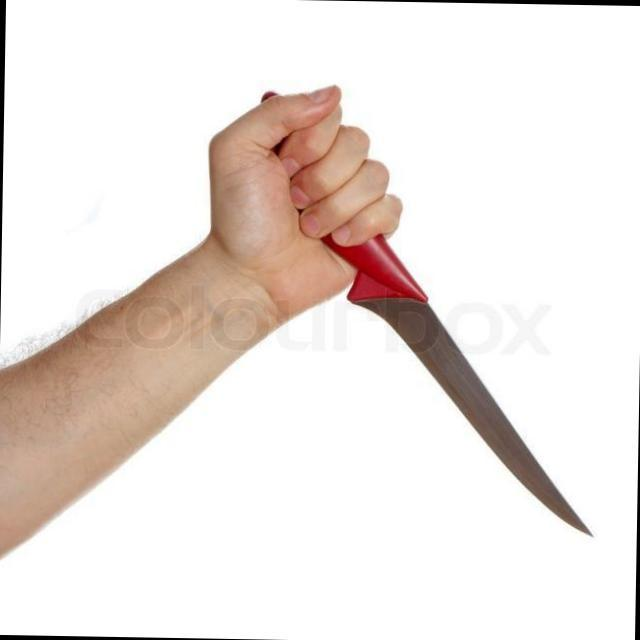Knife: (272, 123, 606, 544)
